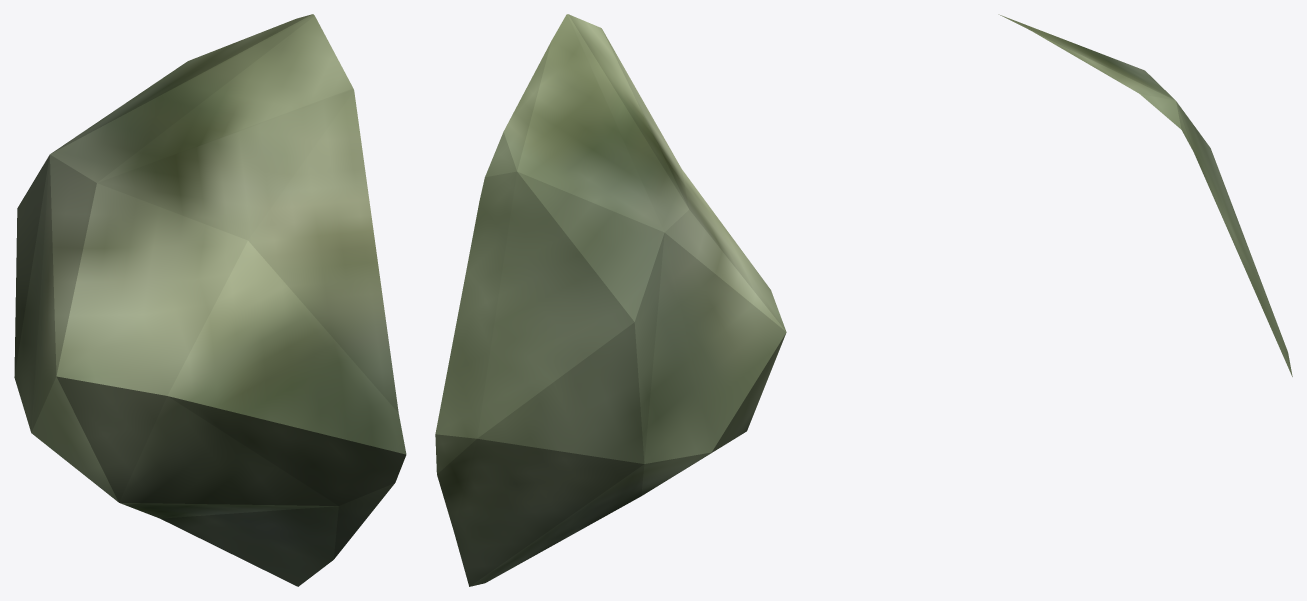
3 views of the same model, side by side, from view 1: azimuth 30°, elevation 25°; view 2: azimuth 150°, elevation 25°; view 3: azimuth 270°, elevation 25° (orthographic). The views are drawn at different scales.
Size of the model in its own units: 0.3052 by 0.6698 by 0.5061.
Materials: 1 (1 with a texture image).
